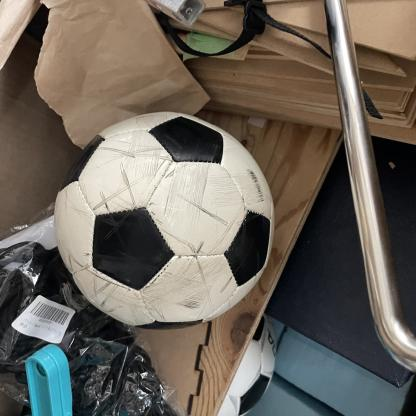ball: (55, 111, 275, 330)
